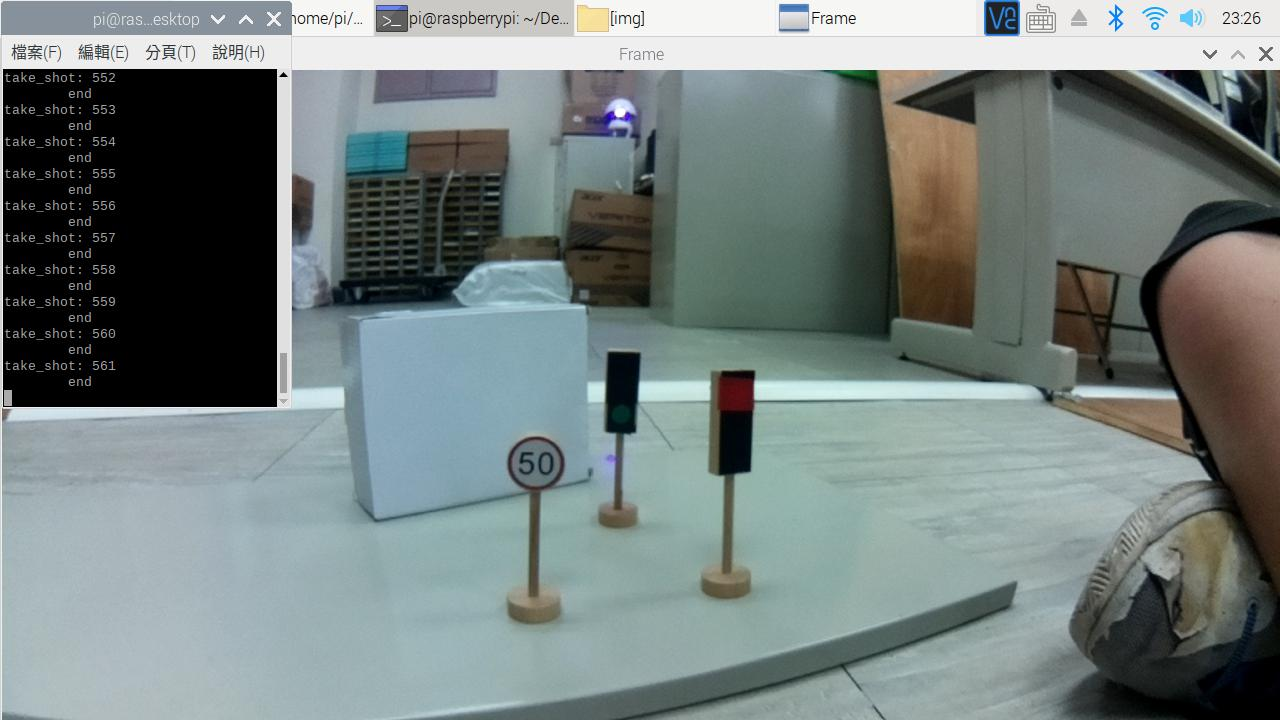Green: (596, 349, 653, 449)
Red: (705, 359, 768, 487)
Speed50: (498, 438, 570, 494)
